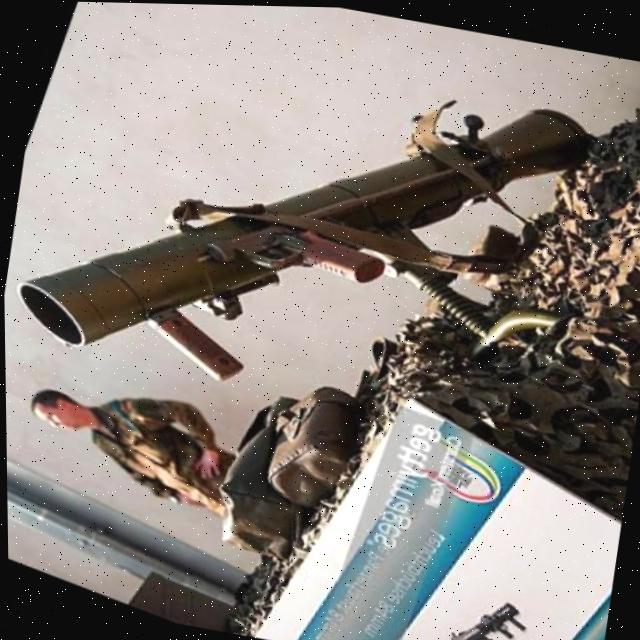rocket: (2, 0, 617, 507)
